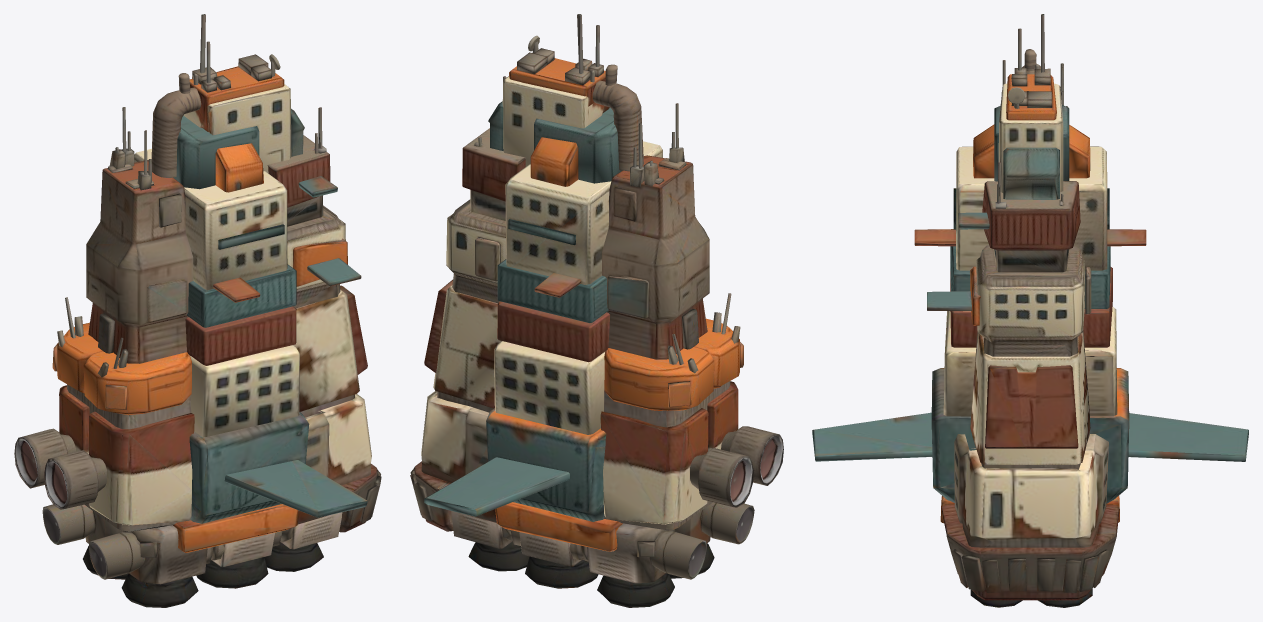
File: flagship.glb
3 views of the same model, side by side, from view 1: azimuth 30°, elevation 25°; view 2: azimuth 150°, elevation 25°; view 3: azimuth 270°, elevation 25° (orthographic).
Visible parts, largest first — view 1: geometry_0; view 2: geometry_0; view 3: geometry_0.
Part boxes in pixels (<box>): geometry_0: <box>14,14,381,607</box>; geometry_0: <box>410,14,783,607</box>; geometry_0: <box>812,14,1248,607</box>.
Bounding box in the file's own units: 0.5801 × 0.9517 × 0.687.
Materials: 1 (1 with a texture image).
